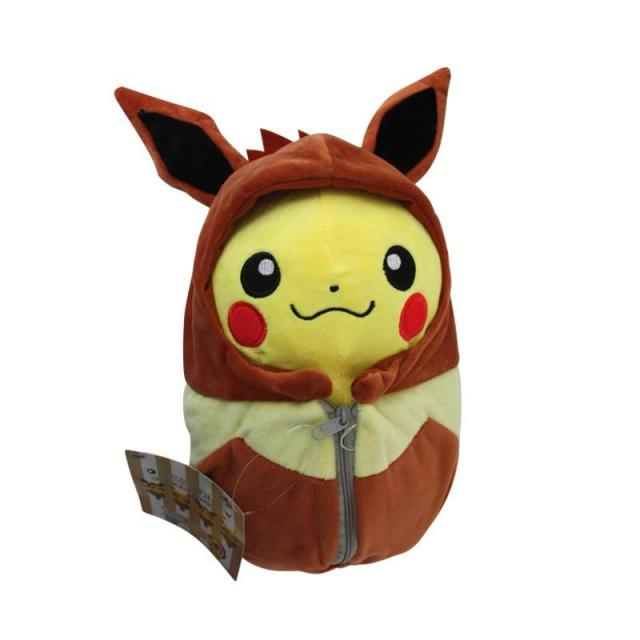pikachu: (116, 67, 456, 409)
